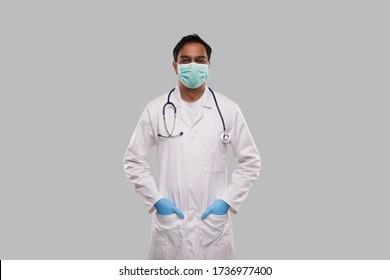gloves: (200, 198, 229, 220), (154, 198, 185, 218)
